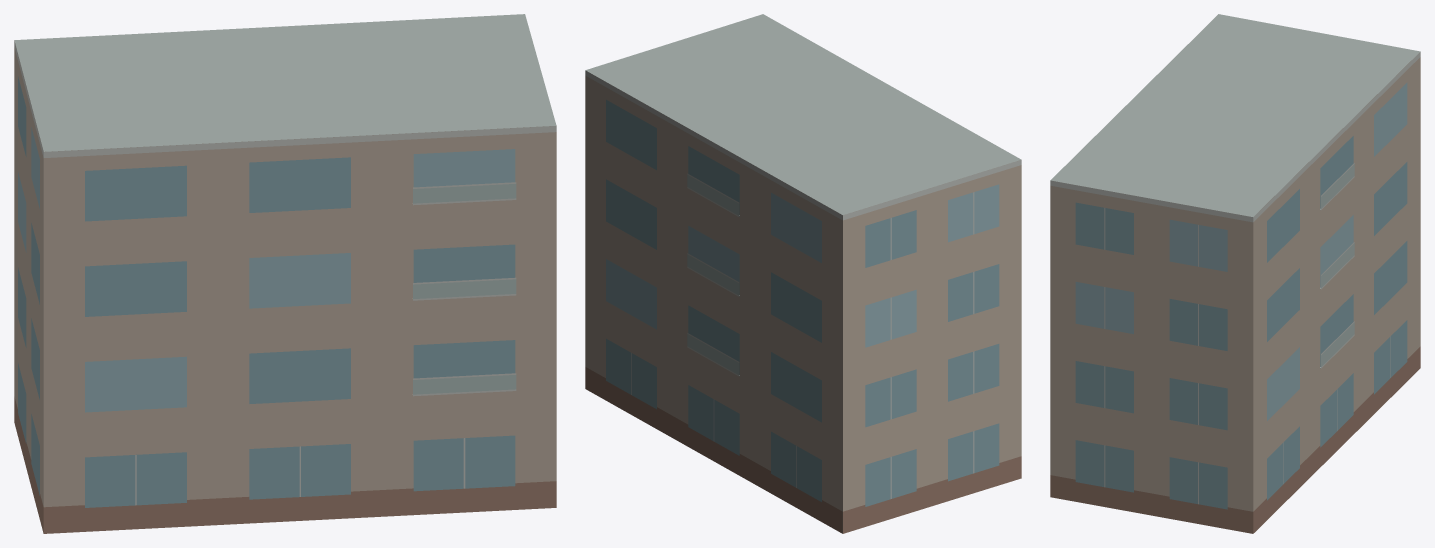
File: survey-upis-32979238.glb
The picture shows the model from 3 angles, left to right: view 1: azimuth 30°, elevation 25°; view 2: azimuth 150°, elevation 25°; view 3: azimuth 270°, elevation 25°; orthographic projection. The views are drawn at different scales.
Visible parts, largest first — view 1: survey-upis-32979238.tmp; view 2: survey-upis-32979238.tmp; view 3: survey-upis-32979238.tmp.
Boxes of the visible parts, x1,y1,x2,y2 form: survey-upis-32979238.tmp: (14, 14, 556, 533); survey-upis-32979238.tmp: (585, 14, 1021, 533); survey-upis-32979238.tmp: (1050, 14, 1420, 533).
Size of the model in its own units: 20.3 by 14.75 by 15.64.
